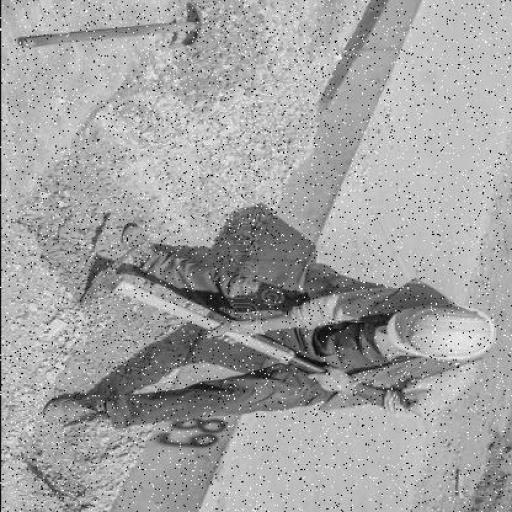person: (40, 222, 498, 439)
safety_shoe: (45, 396, 104, 428), (122, 224, 154, 274)
